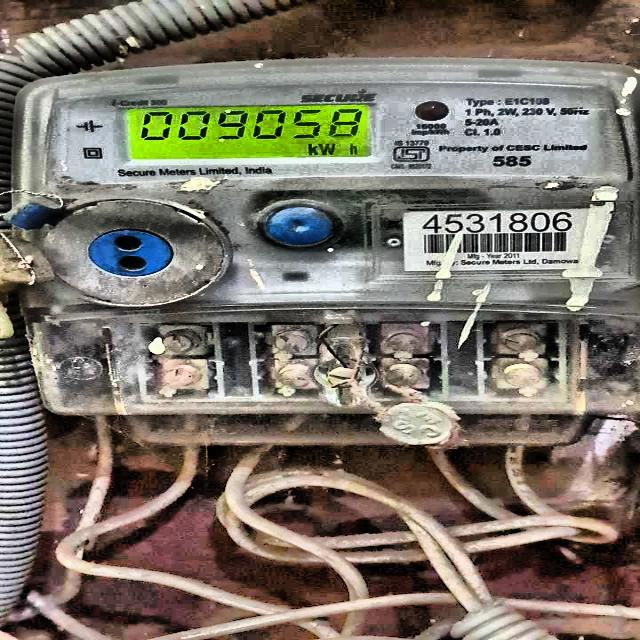Digital: (17, 71, 640, 421)
Reading: (132, 107, 366, 143)
Serial No.: (420, 212, 572, 233)
